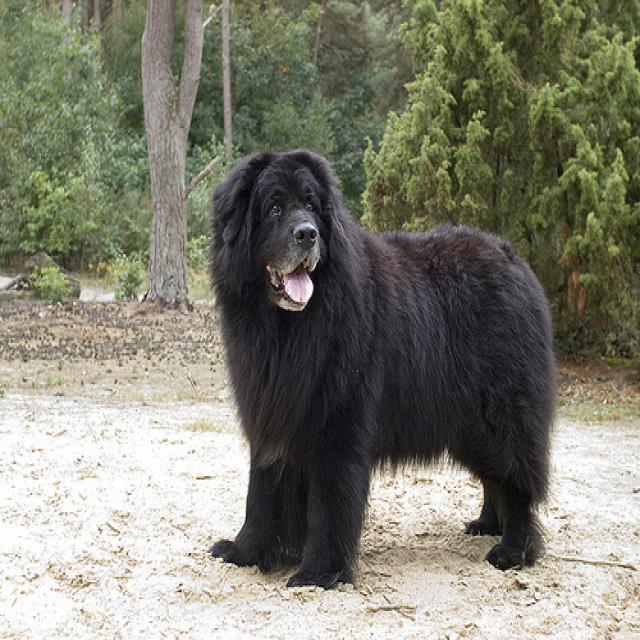dog-newfoundland: (197, 143, 562, 601)
